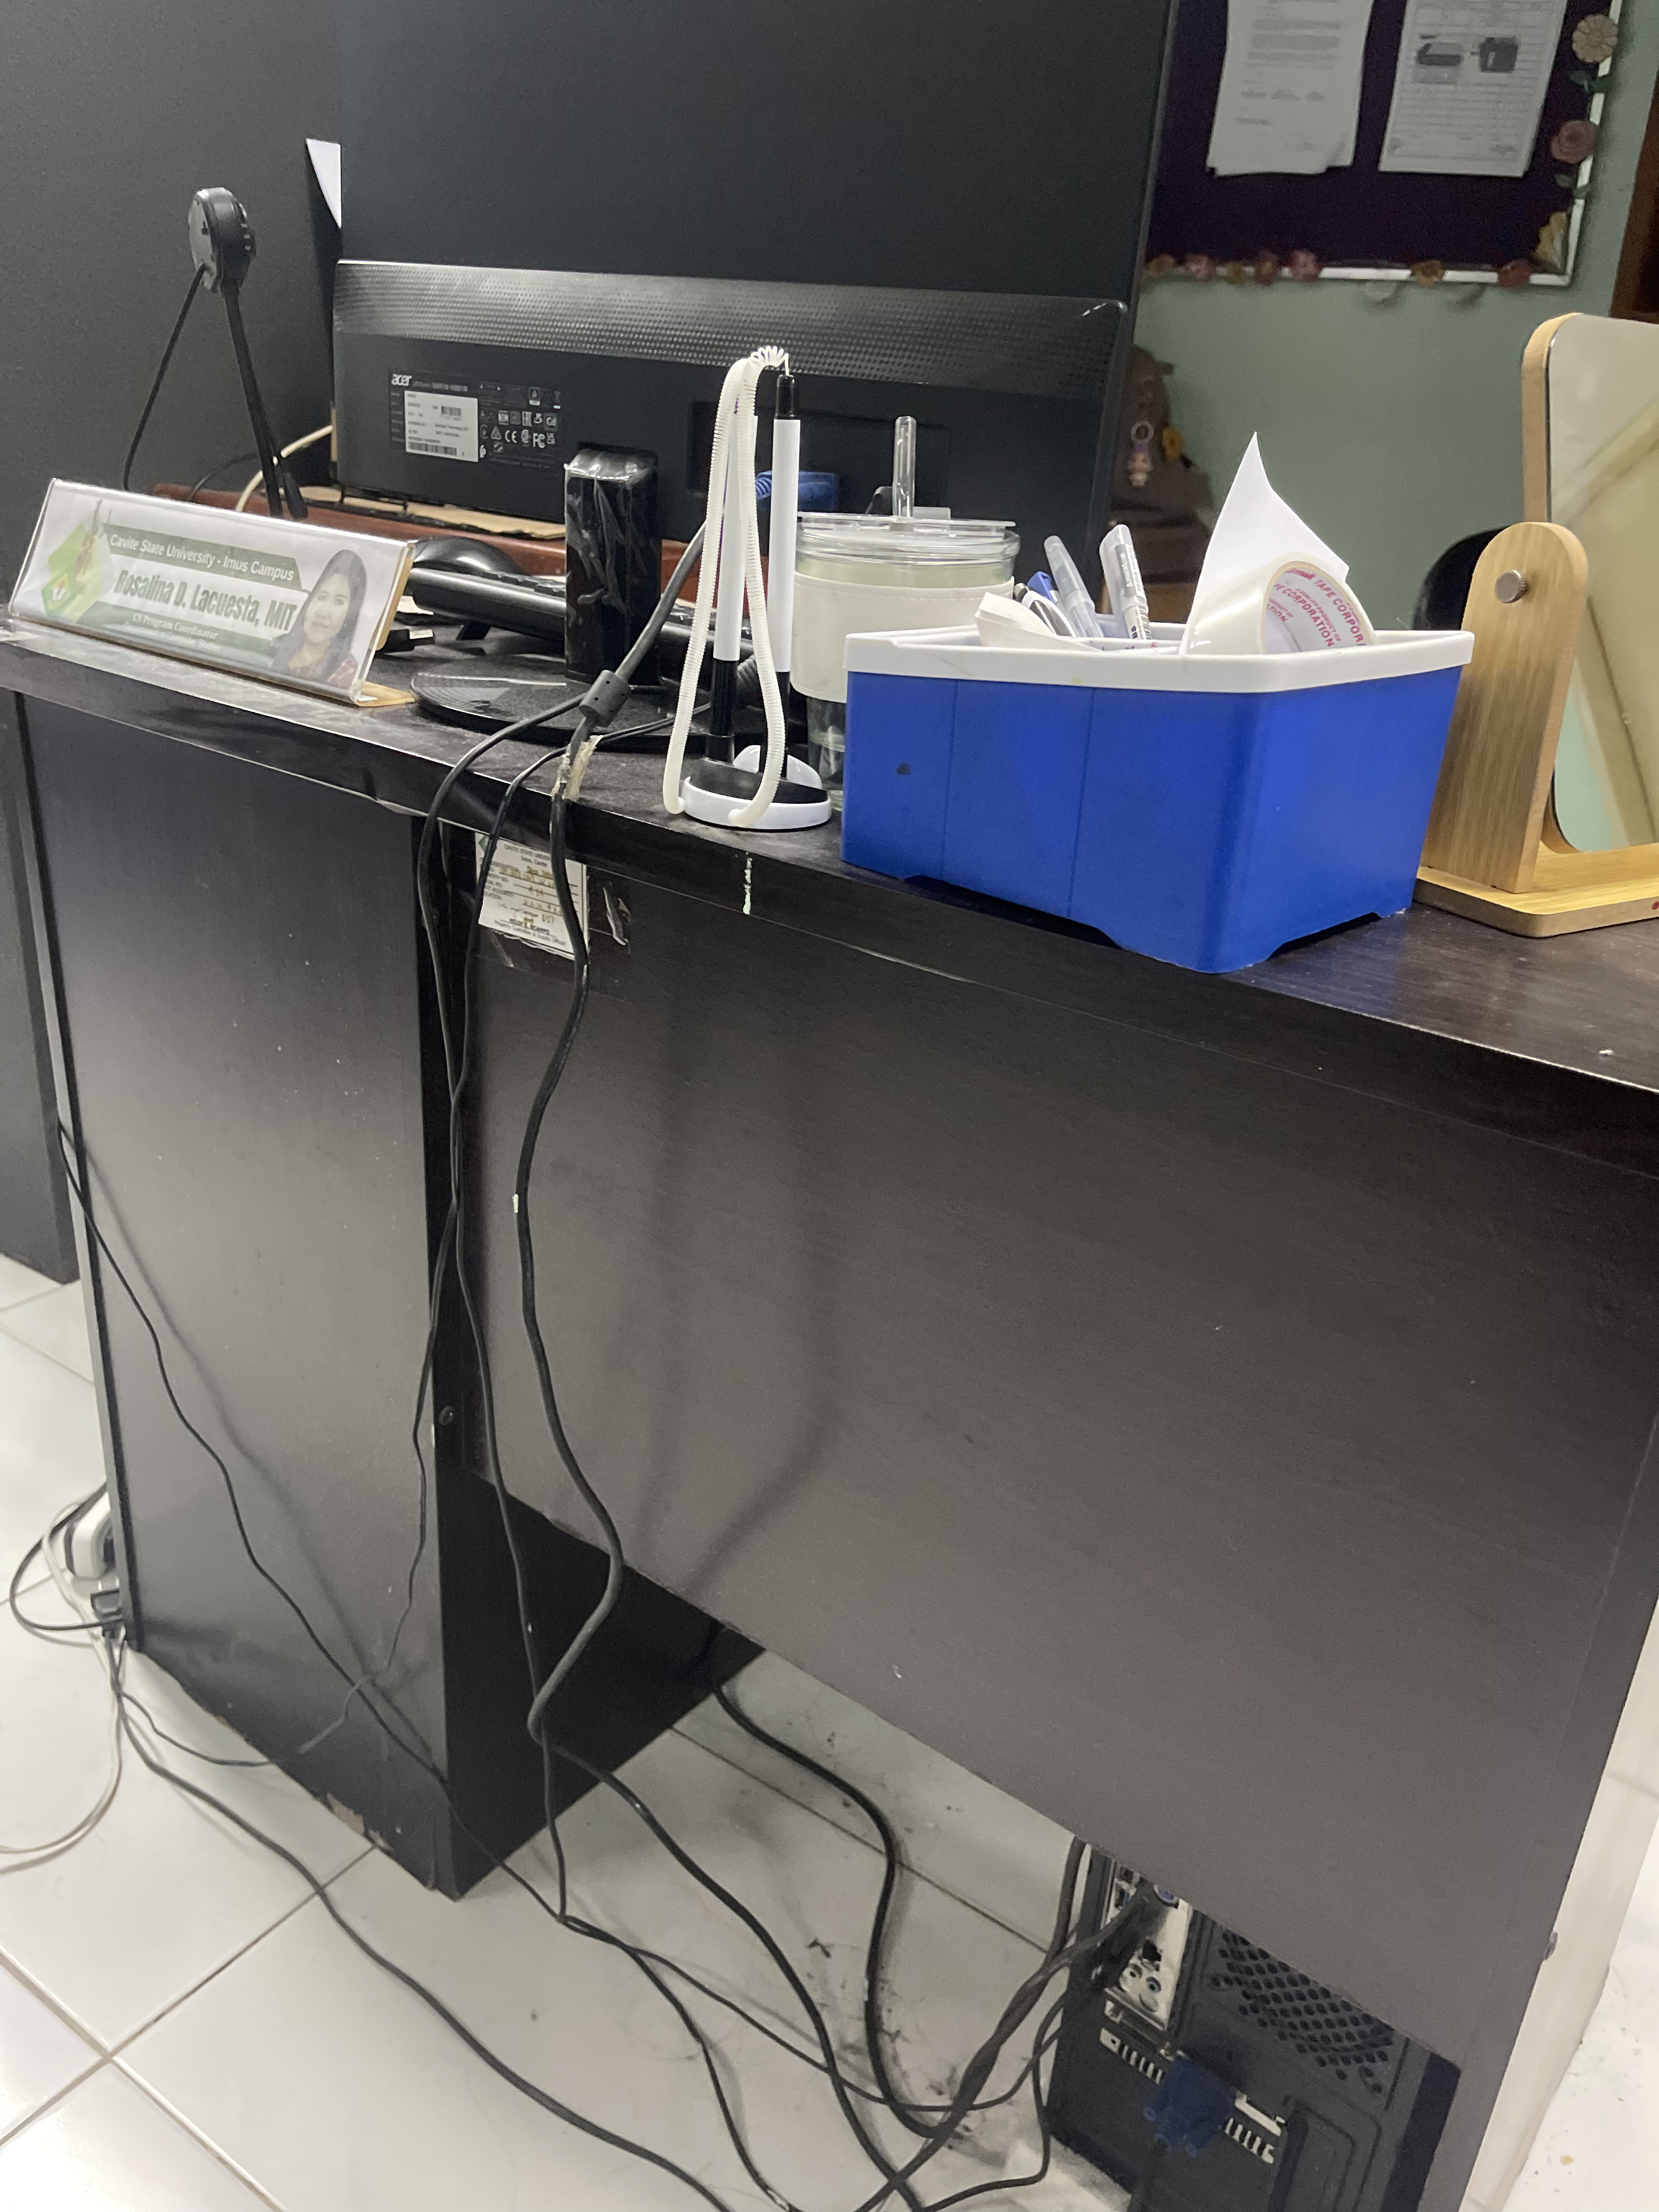table1: (0, 582, 1659, 2212)
